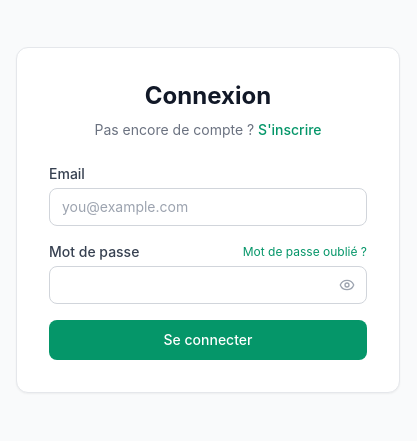
it: LoginPage › shows generic error on failed login and does not redirect
Type "bad@test.com" into the field labelled "Email". click: (208, 207)
box: [49, 188, 367, 226]
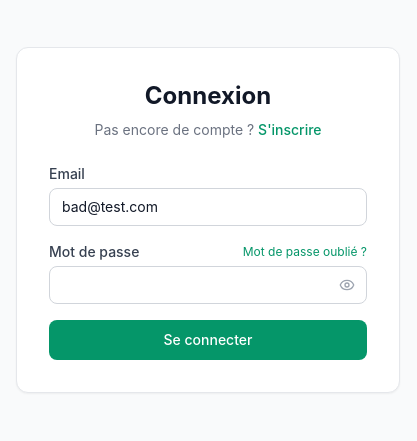
Type "wrong" into the password field labelled "Mot de passe". click: (208, 285)
box: [49, 266, 367, 304]
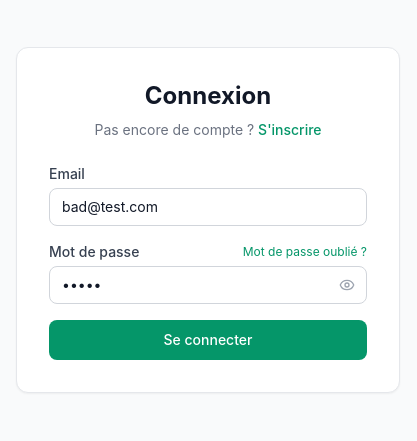
Click the button "Se connecter". click: (208, 340)
box: [49, 320, 367, 360]
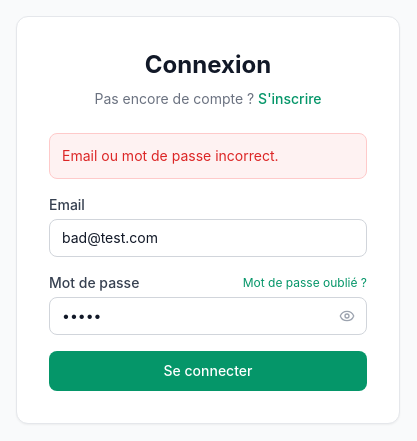
Result: the text "Email ou mot de passe incorrect." is shown at [49, 133, 367, 179]
